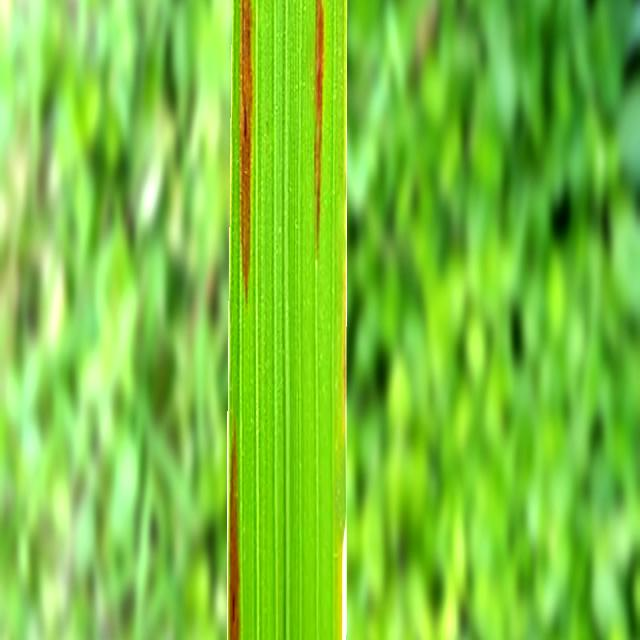NBS: (240, 0, 256, 310), (228, 412, 241, 640), (314, 0, 325, 262)
